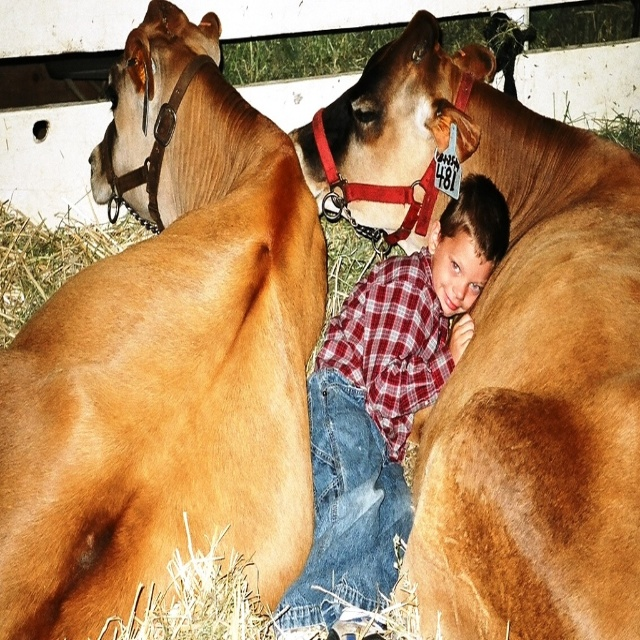Cattle: (288, 9, 640, 640), (0, 0, 328, 640)
